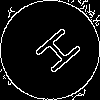H: (25, 25, 84, 83)
